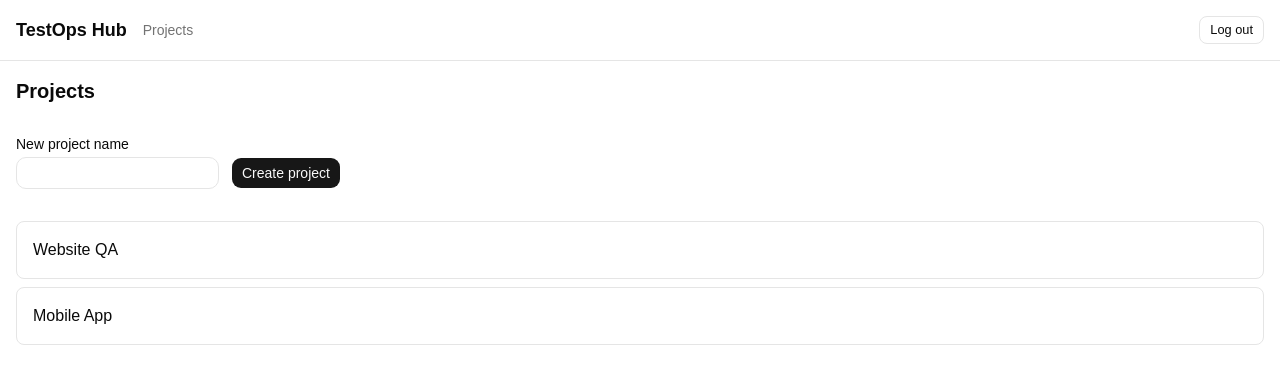
Test: project creation › shows a validation error and makes no request when submitting an empty name
Expected: the link "Website QA" is shown, [16,221,1264,279]
Click the button "Create project" at (286, 173), box [231,157,341,189]
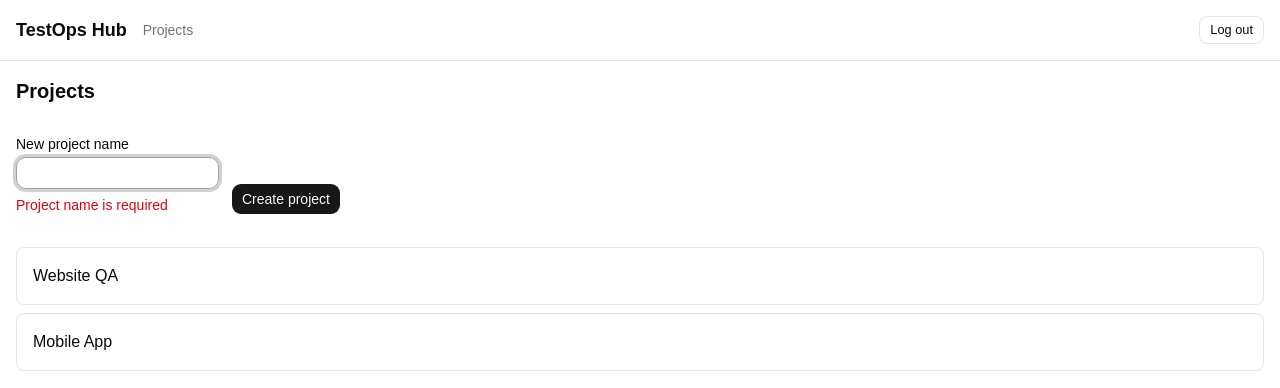
Result: the message reads "Project name is required" at [16,197,168,213]
